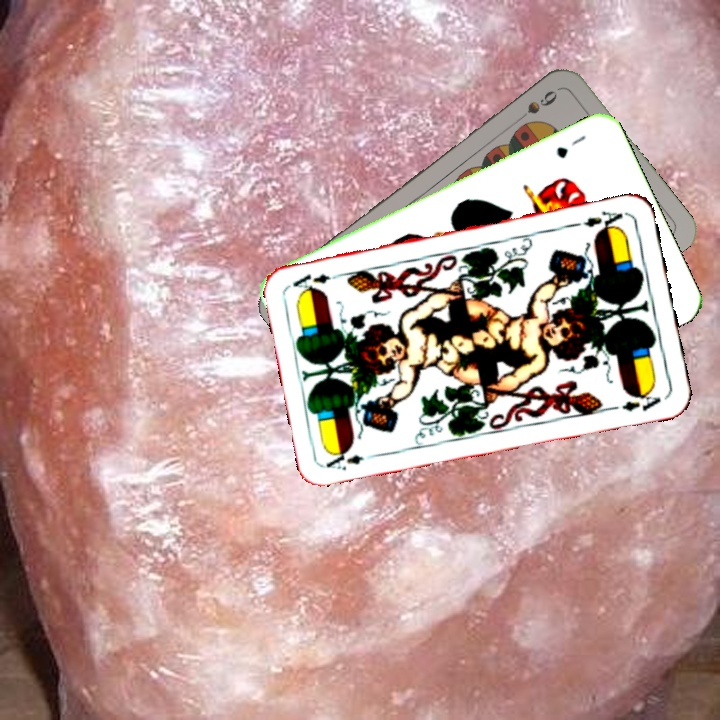EA: (322, 445, 381, 473), (580, 207, 629, 235)
GU: (552, 131, 589, 161)
S9: (523, 86, 560, 117)
